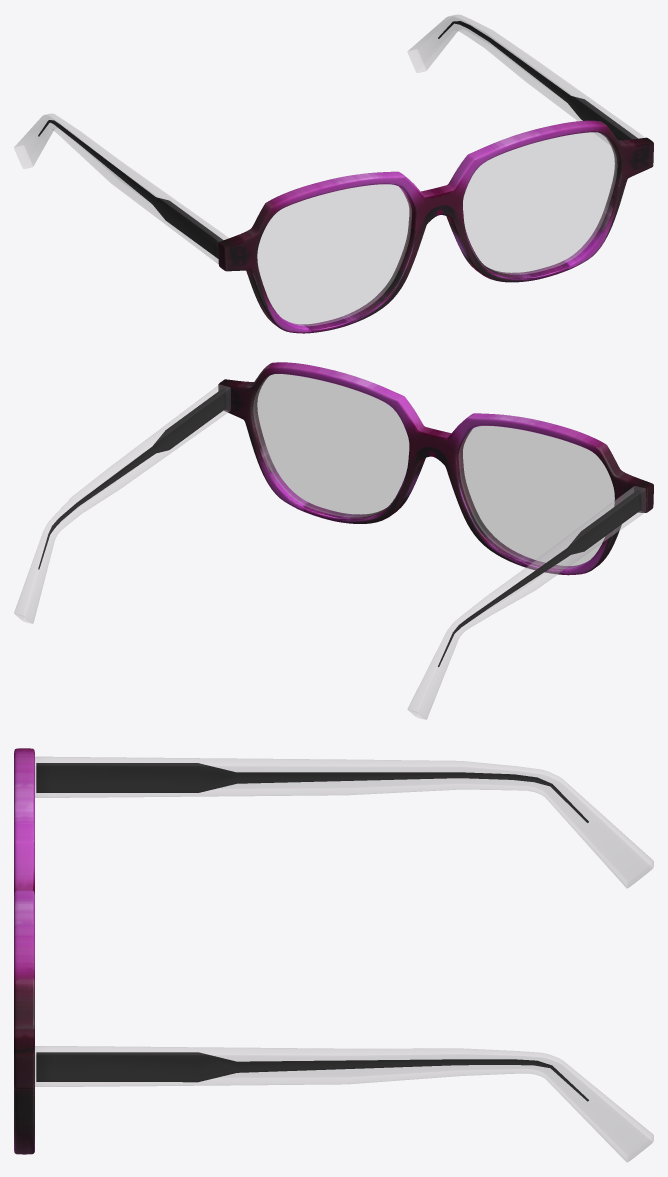
File: variant-1.glb
3 renders of one model, top to bottom at view 1: azimuth 30°, elevation 25°; view 2: azimuth 150°, elevation 25°; view 3: azimuth 270°, elevation 25°, orthographic. The views are drawn at different scales.
Visible parts, largest first — view 1: Plane.001, Plane; view 2: Plane.001, Plane; view 3: Plane.
Part boxes in pixels (<box>): Plane.001: <box>257,132,617,325</box>; Plane: <box>14,14,653,333</box>; Plane.001: <box>253,374,614,568</box>; Plane: <box>14,362,653,719</box>; Plane: <box>14,748,653,1162</box>.
Bounding box in the file's own units: 2.19 × 0.7067 × 1.97.
Materials: 4 (1 with a texture image).
